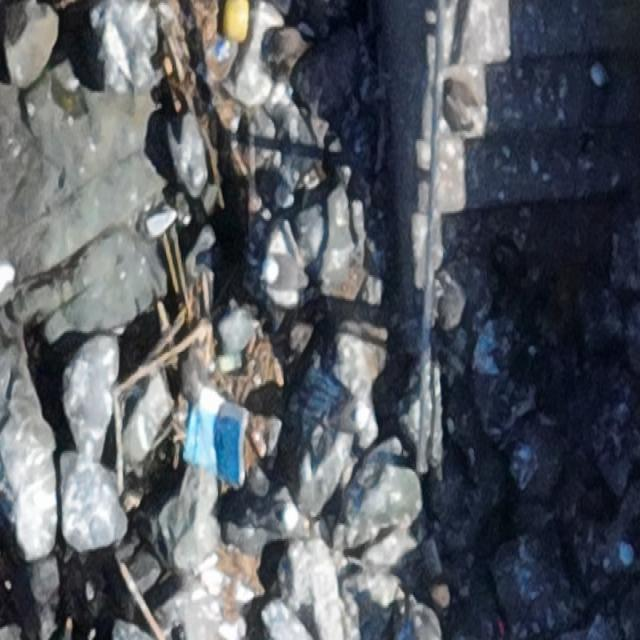umineko: (262, 255, 308, 290), (248, 503, 298, 530), (326, 403, 369, 431)
